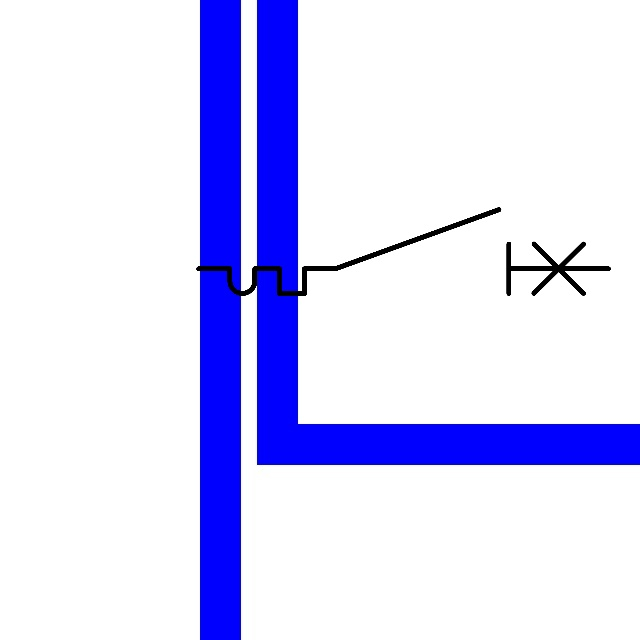interruptor_termomagnetico: (188, 199, 619, 304)
